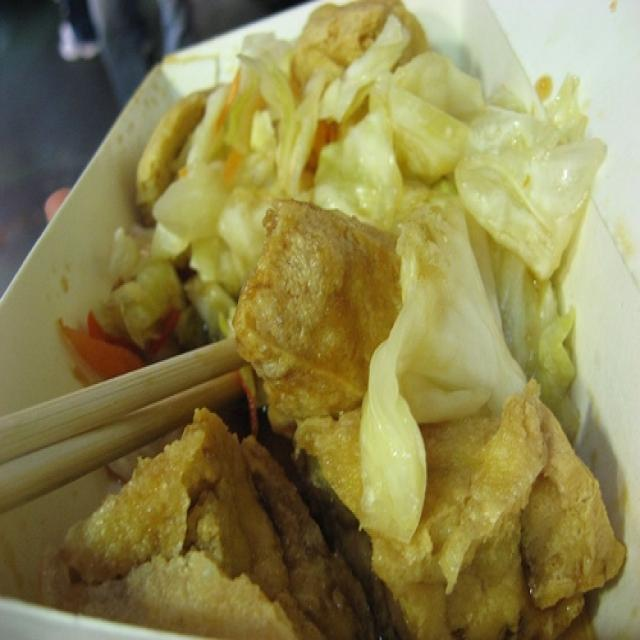豆腐料理: (15, 5, 628, 618)
